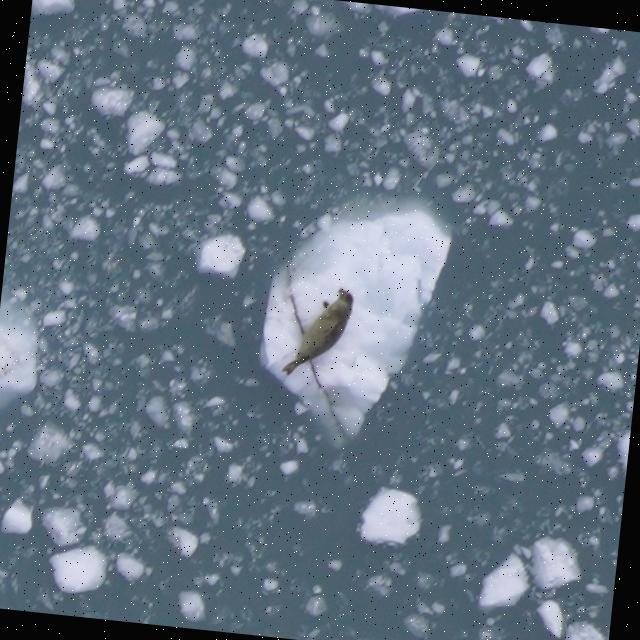seal: (275, 276, 360, 386)
